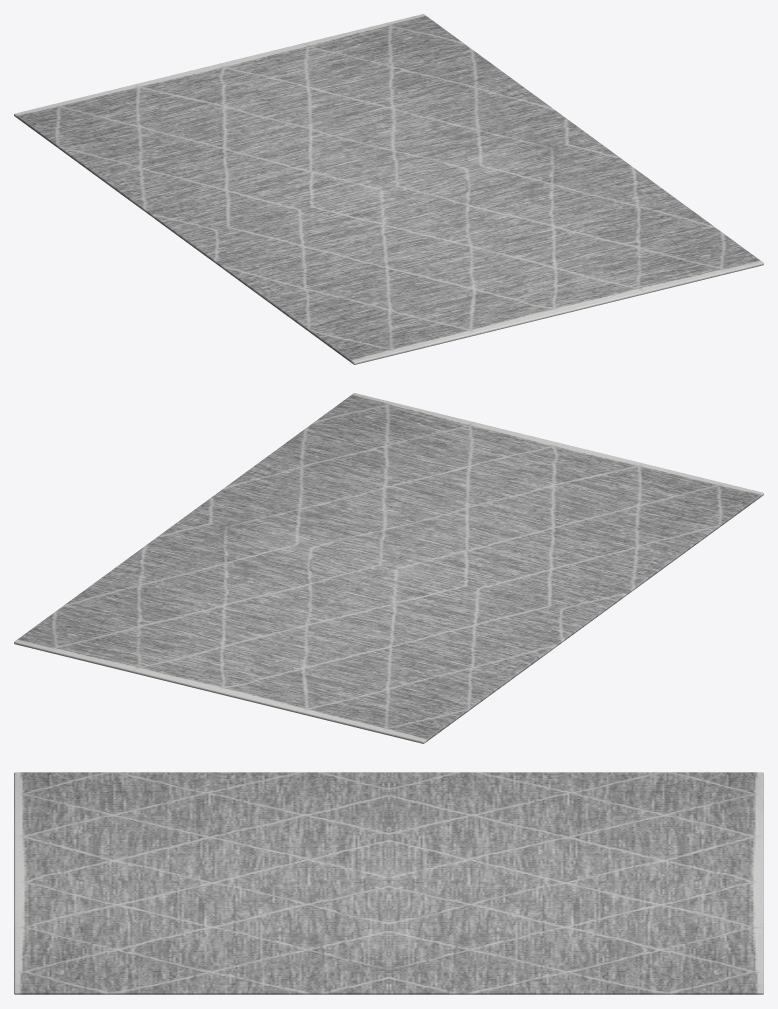
Rendered from rug.glb.
3 renders of one model, top to bottom at view 1: azimuth 30°, elevation 25°; view 2: azimuth 150°, elevation 25°; view 3: azimuth 270°, elevation 25°, orthographic. The views are drawn at different scales.
Visible parts, largest first — view 1: MESH_carpet_titawin_MAT_carpet_titawin_0; view 2: MESH_carpet_titawin_MAT_carpet_titawin_0; view 3: MESH_carpet_titawin_MAT_carpet_titawin_0.
Part boxes in pixels (x1,y1,x2,y2): MESH_carpet_titawin_MAT_carpet_titawin_0: [14, 14, 763, 364]; MESH_carpet_titawin_MAT_carpet_titawin_0: [14, 393, 763, 743]; MESH_carpet_titawin_MAT_carpet_titawin_0: [14, 772, 763, 994].
Bounding box in the file's own units: 1.74 × 0.0113 × 2.5.
1 material, 1 textured.
